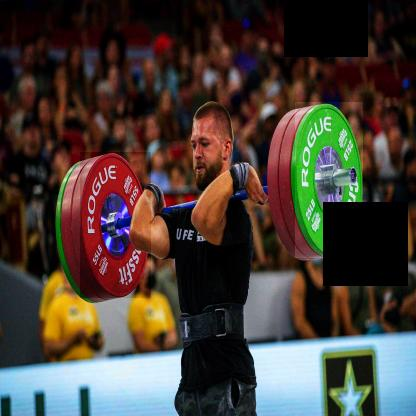barbell: (296, 103, 364, 259), (81, 153, 152, 299)
